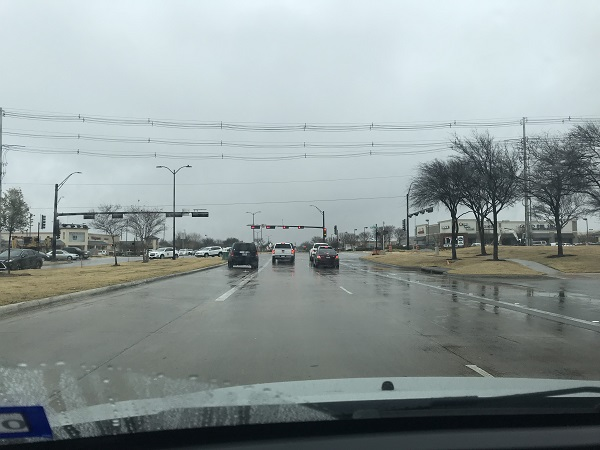car: (227, 241, 259, 269), (4, 247, 42, 268), (314, 246, 339, 267), (148, 245, 176, 258), (195, 243, 217, 257)
truck: (272, 243, 294, 261)
